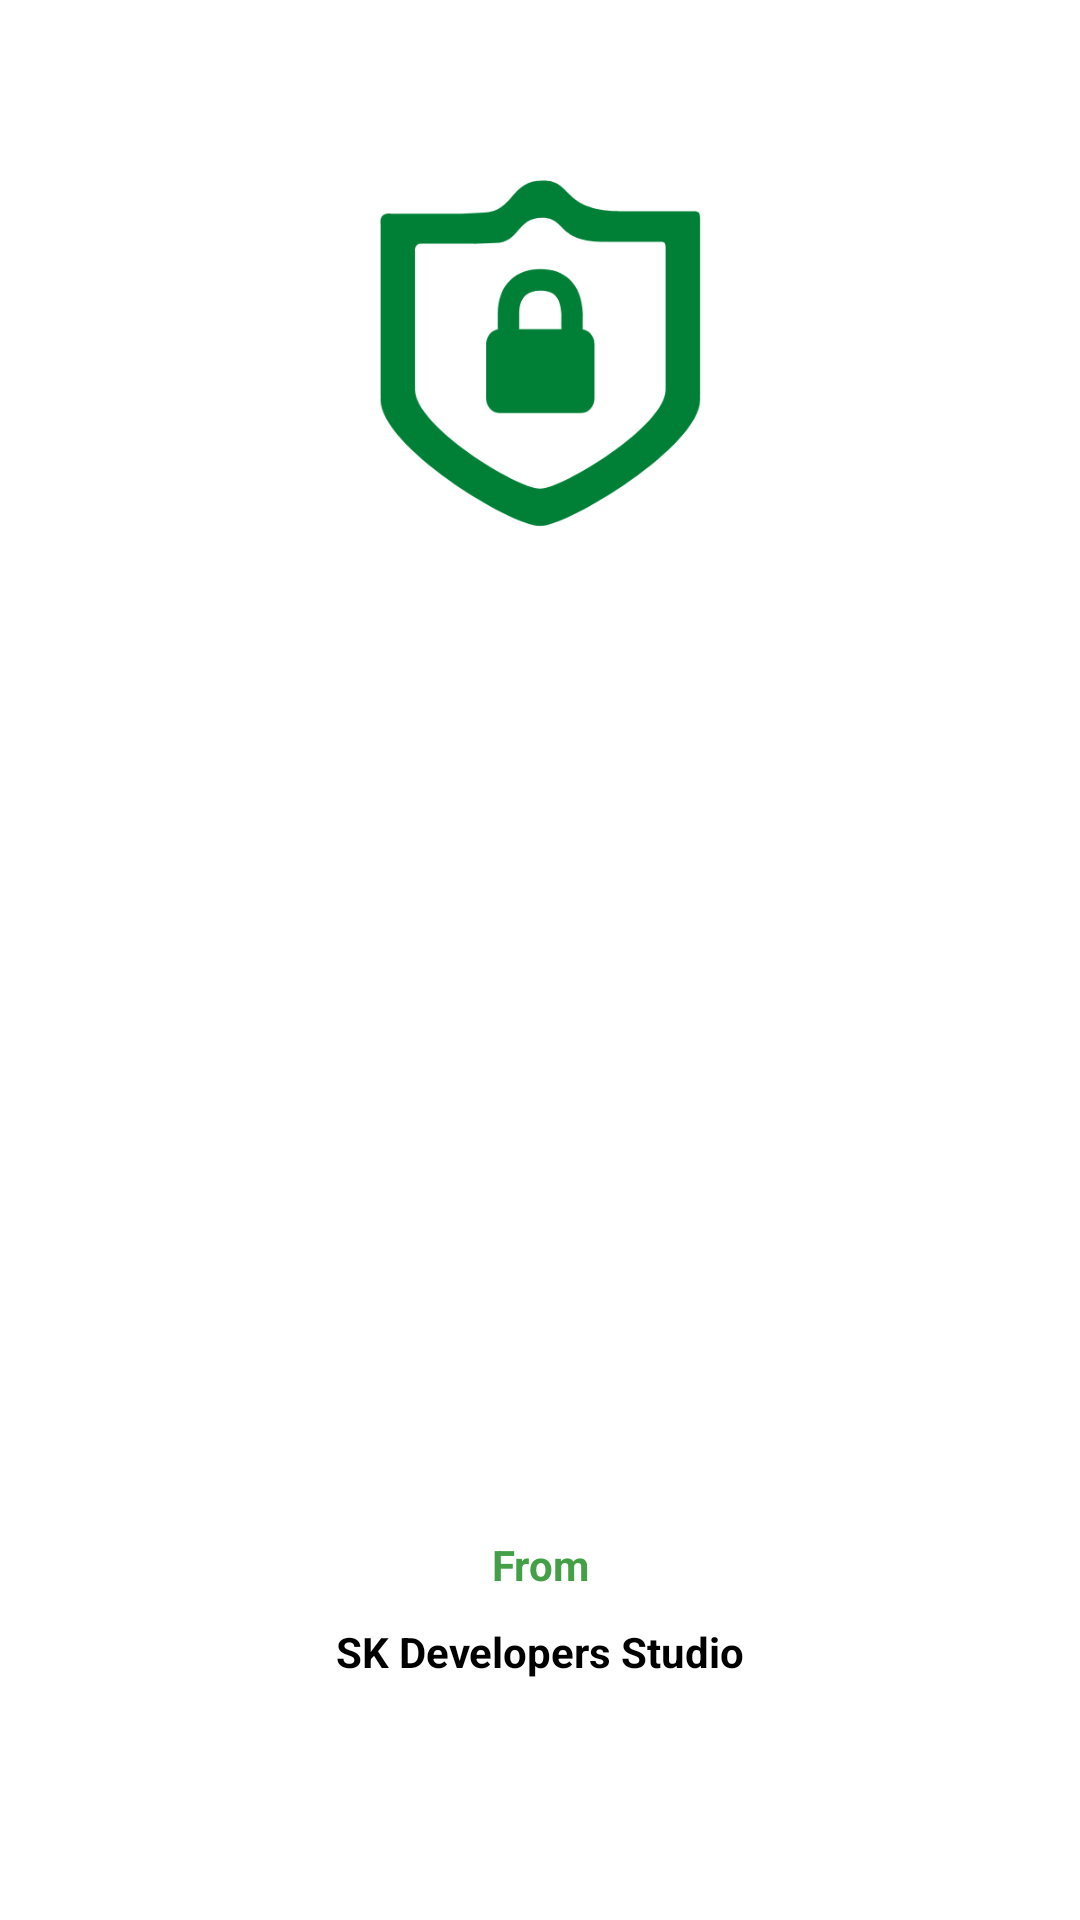

Icon click points for this 1080×1920 phone screenshot, format (x=x, y=y):
encrypto: (x=540, y=353)
